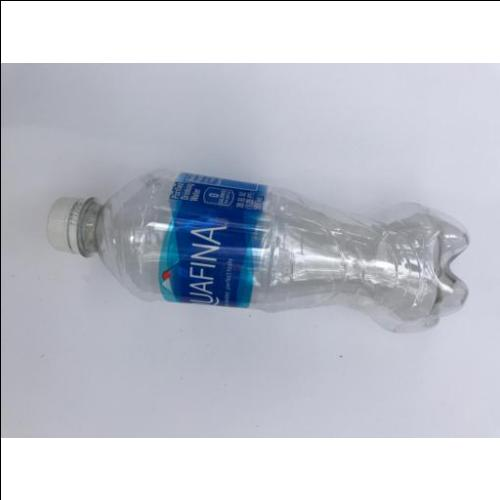plastic: (46, 171, 471, 333)
